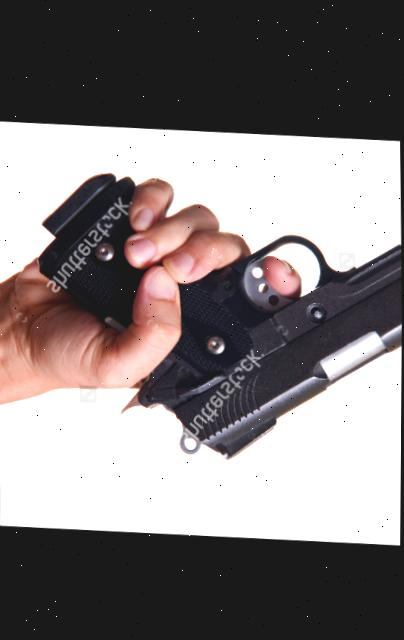pistol: (41, 163, 403, 466)
